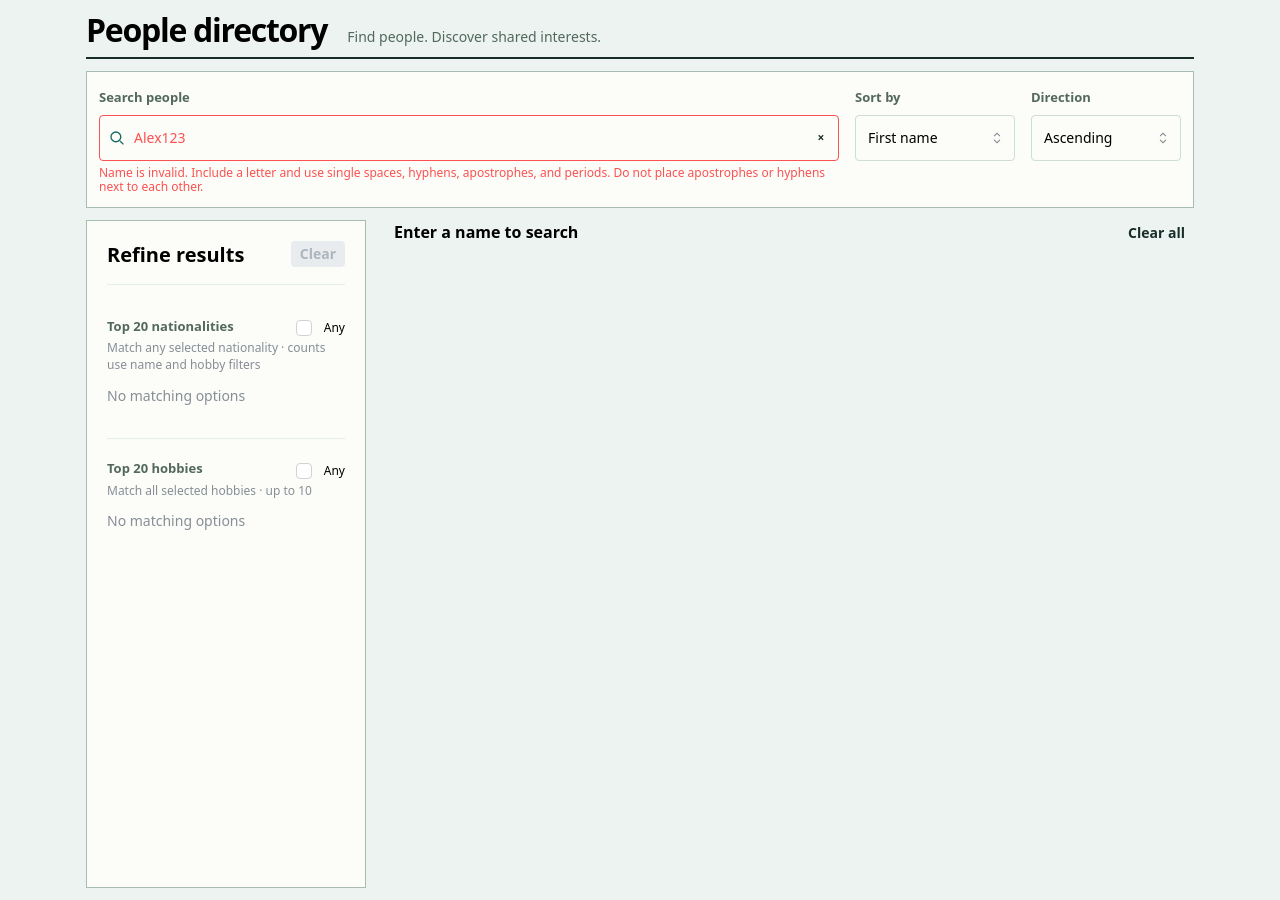
Test: shows a validation error and skips requests for an invalid initial URL name
Expected: the text "Name is invalid" is shown, [99,164,825,195]
Replace the text in the field labelled "Search people" with "Alex": [469, 138] box [99,115,839,161]
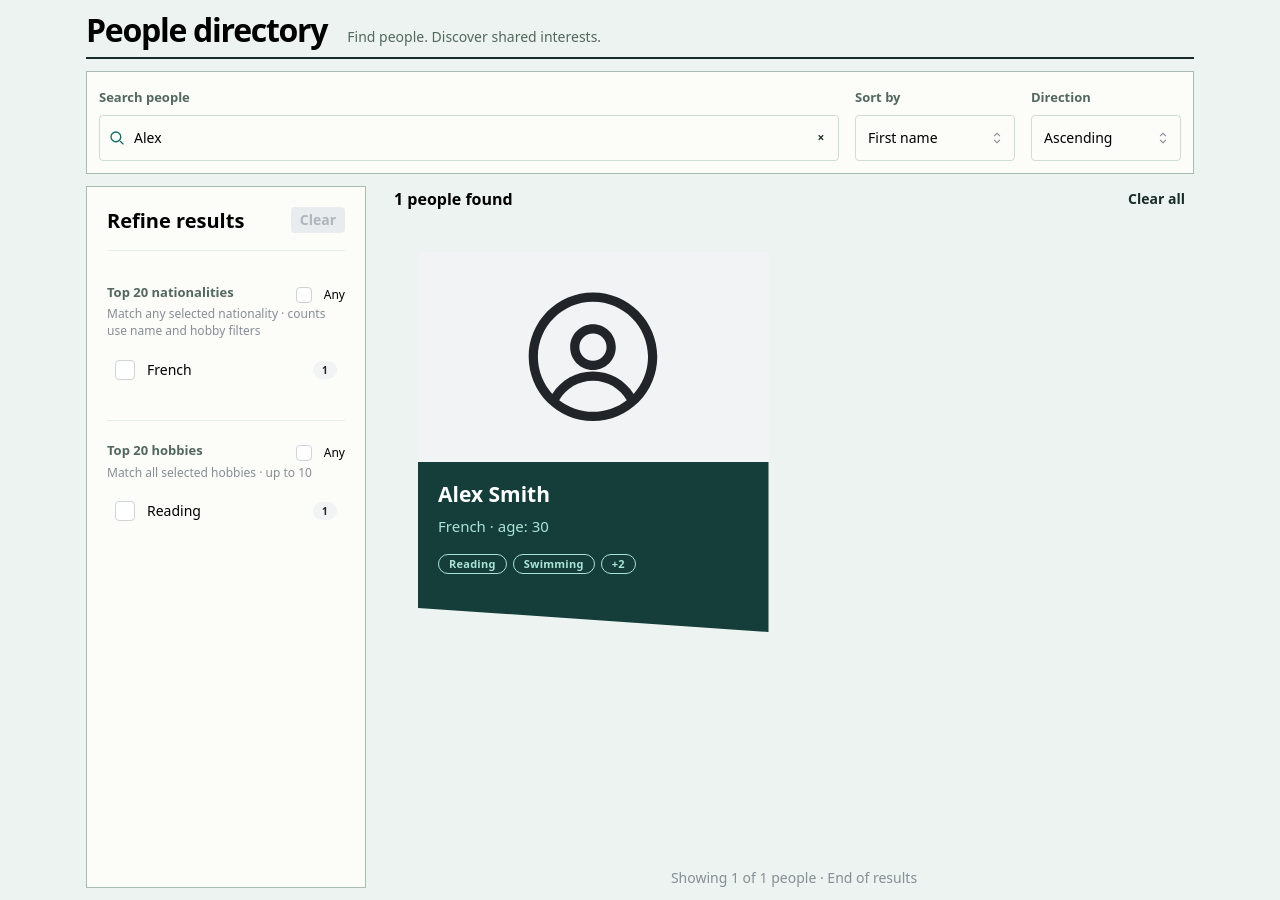
Expected: the element "Alex Smith" is shown, [418,252,768,632]
